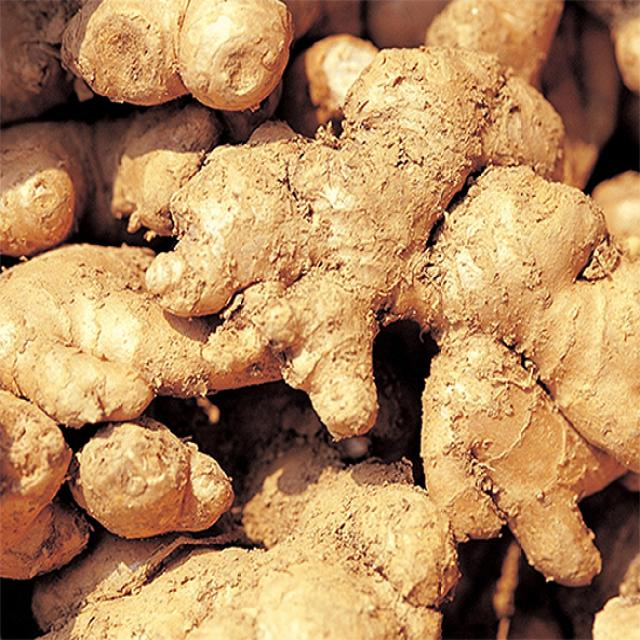ginger: (5, 0, 640, 640)
